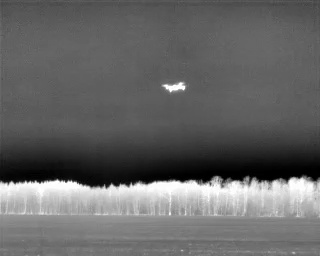DRONE: (159, 76, 191, 98)
